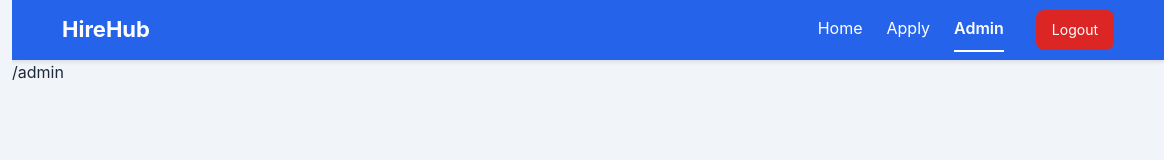
it: Header › reports remove logout denial without falsely navigating home
The image size is (1164, 160).
Click the button "Logout".
click(1075, 30)  # box x1=1036 y1=10 x2=1114 y2=50
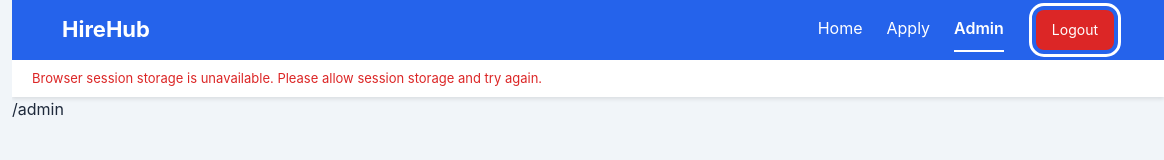
Check: the text named "Current route" reads "/admin", box x1=12 y1=99 x2=64 y2=119
Check: the message shows "Browser session storage is unavailable. Please allow session storage and try again.", box x1=32 y1=70 x2=542 y2=86
